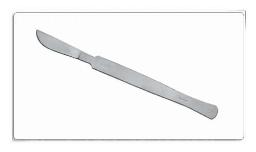scalpel: (35, 28, 219, 120)
